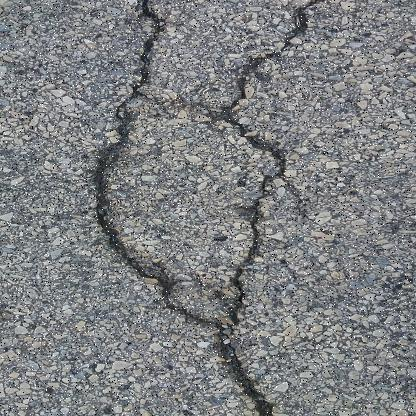Cracks: (197, 0, 350, 415), (83, 0, 241, 330)
